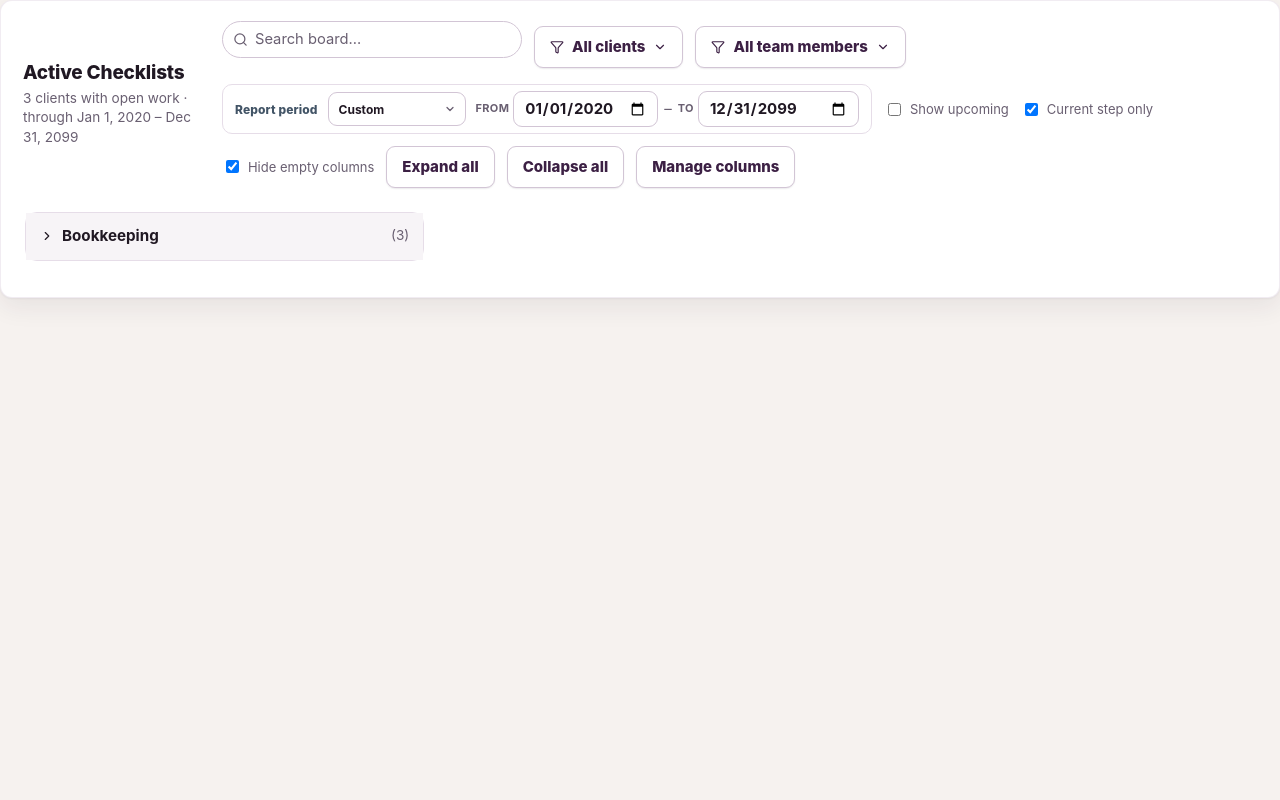
Test: Board: Current step only (default ON) › opens a row to show the step in bold, who it is for, the task count, the next stage and a link
Expected: the checkbox labelled "Current step only" is checked, [1025,103,1038,116]
Click the button "Expand all" at (440, 167), box [386,146,495,188]
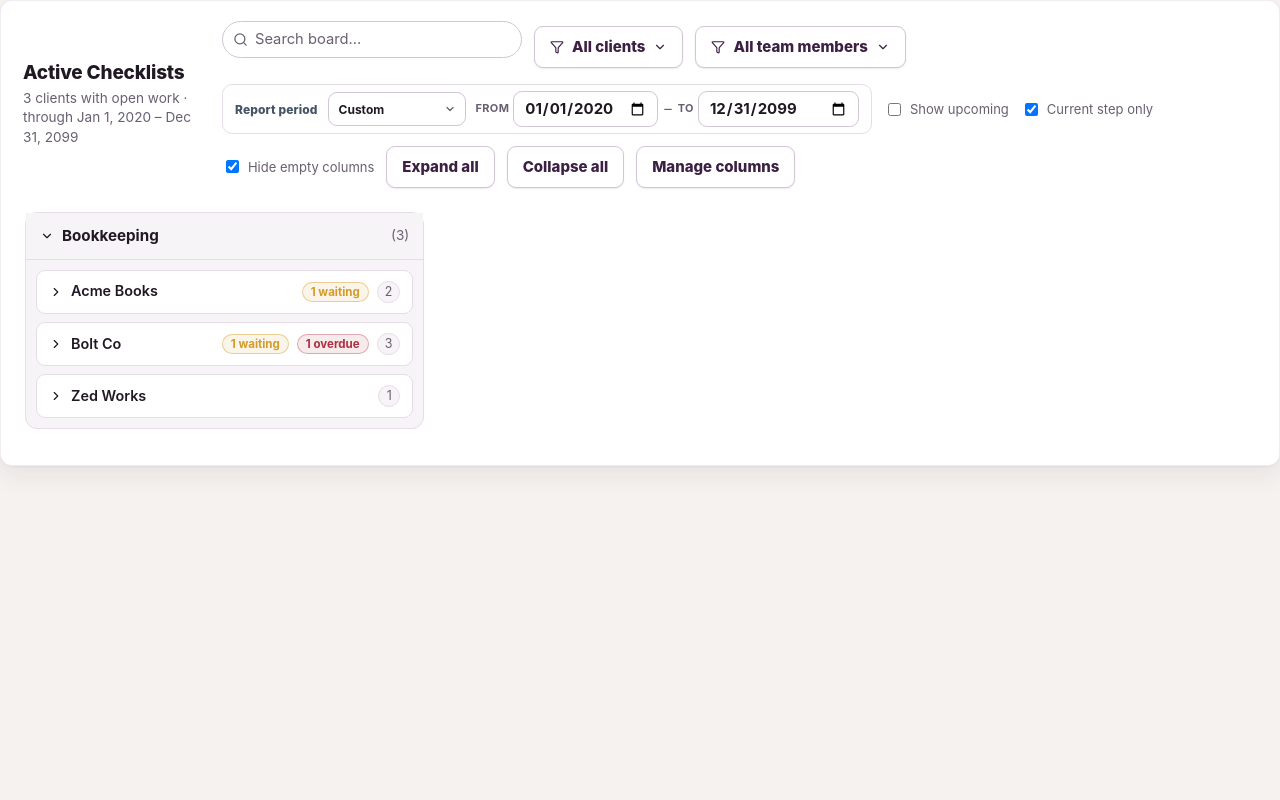
Now the button "Acme Books 1 waiting 2" is shown
Click the button "Acme Books 1 waiting 2" at (114, 291), box [37,271,412,313]
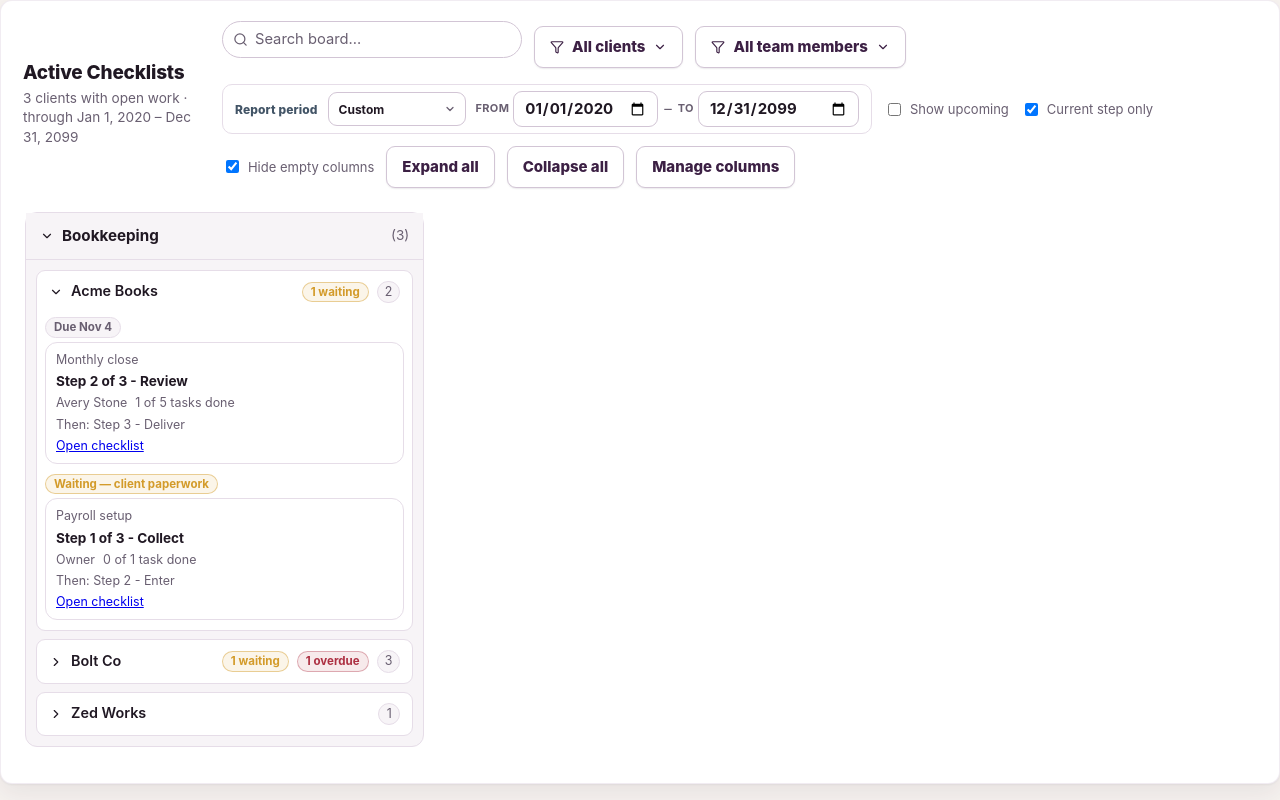
Now the button "Acme Books 1 waiting 2" is expanded, box [37,271,412,313]
Now the element with class "board-step-meta" shows "Avery Stone", box [56,395,127,410]
Now the text with class "board-step-count" reads "1 of 5 tasks done", box [135,395,235,410]
